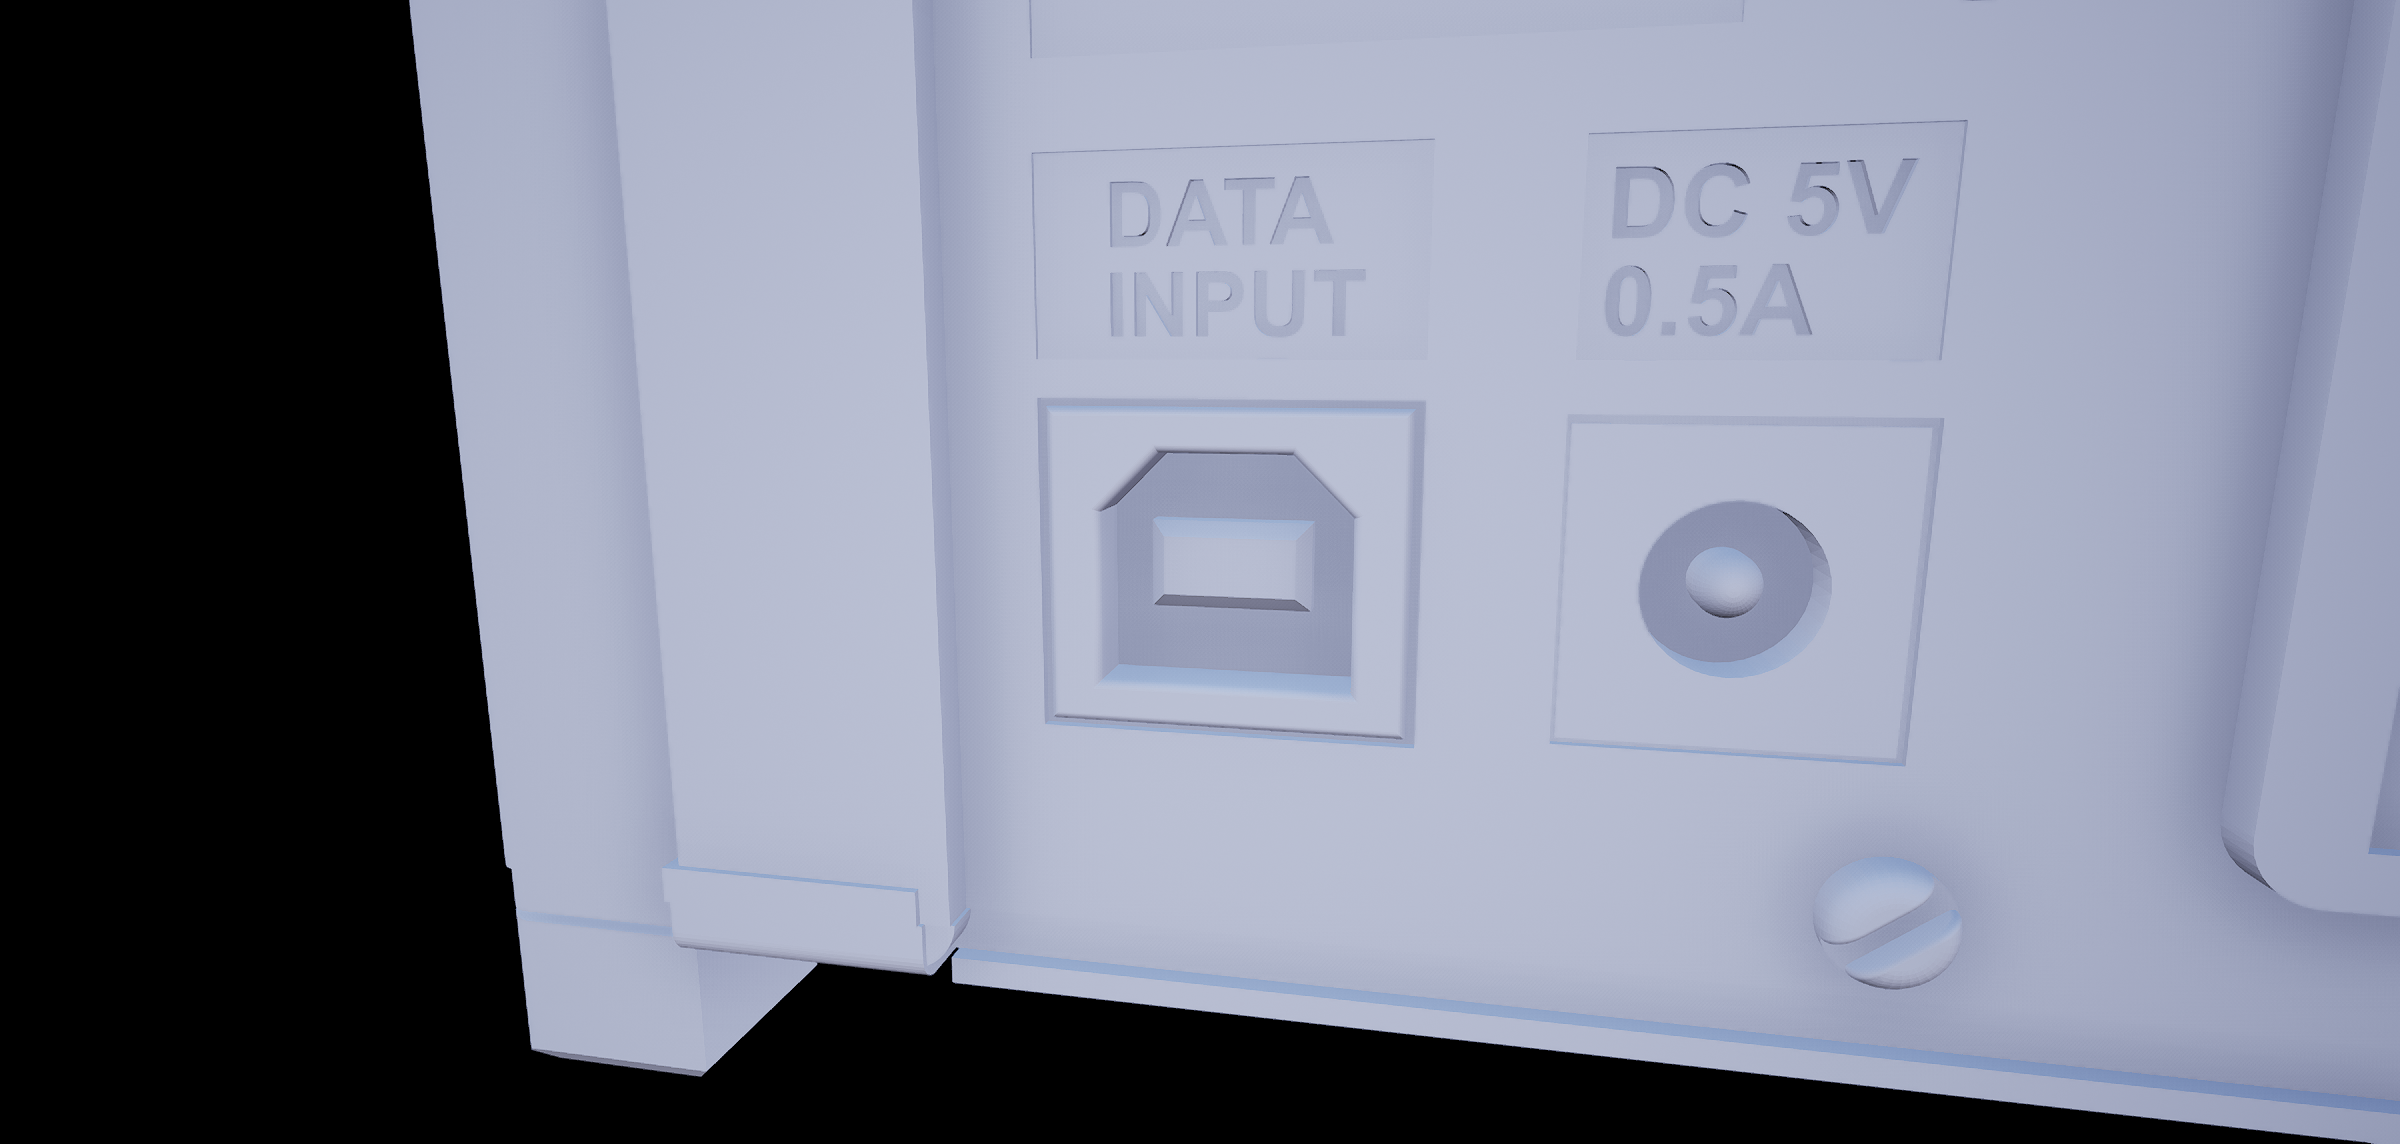dc: (1607, 461, 1851, 715)
usb: (1084, 427, 1384, 723)
